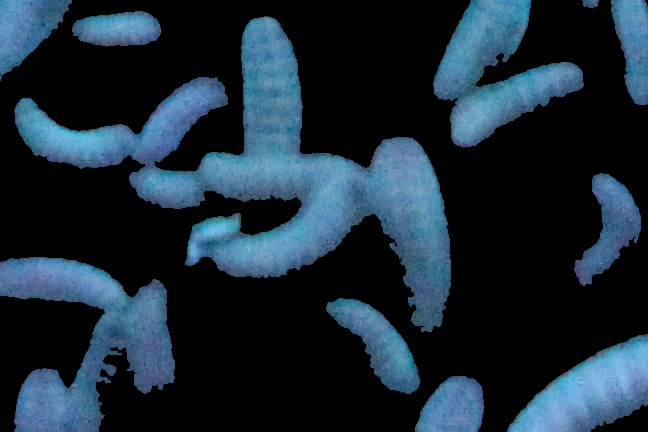larvae: (360, 126, 466, 354), (201, 178, 356, 285), (303, 280, 433, 405), (233, 3, 313, 191), (1, 86, 135, 183), (444, 57, 591, 144), (135, 63, 251, 170), (510, 343, 648, 427), (576, 163, 647, 296), (433, 1, 533, 89), (1, 249, 131, 316), (73, 3, 162, 53), (129, 164, 206, 215), (550, 1, 619, 20)
